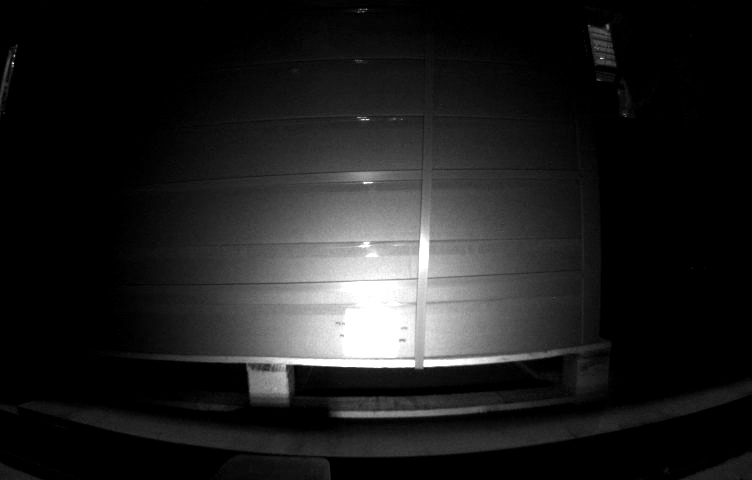True Barcode: (345, 308, 400, 358)
